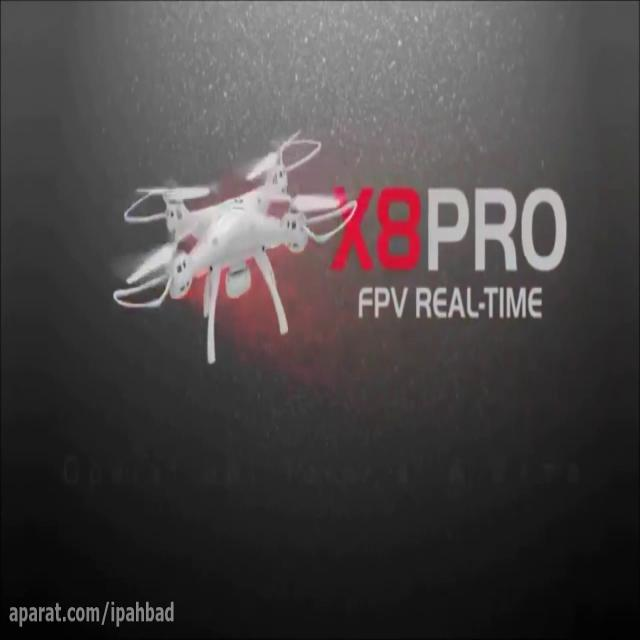drone: (111, 127, 357, 369)
